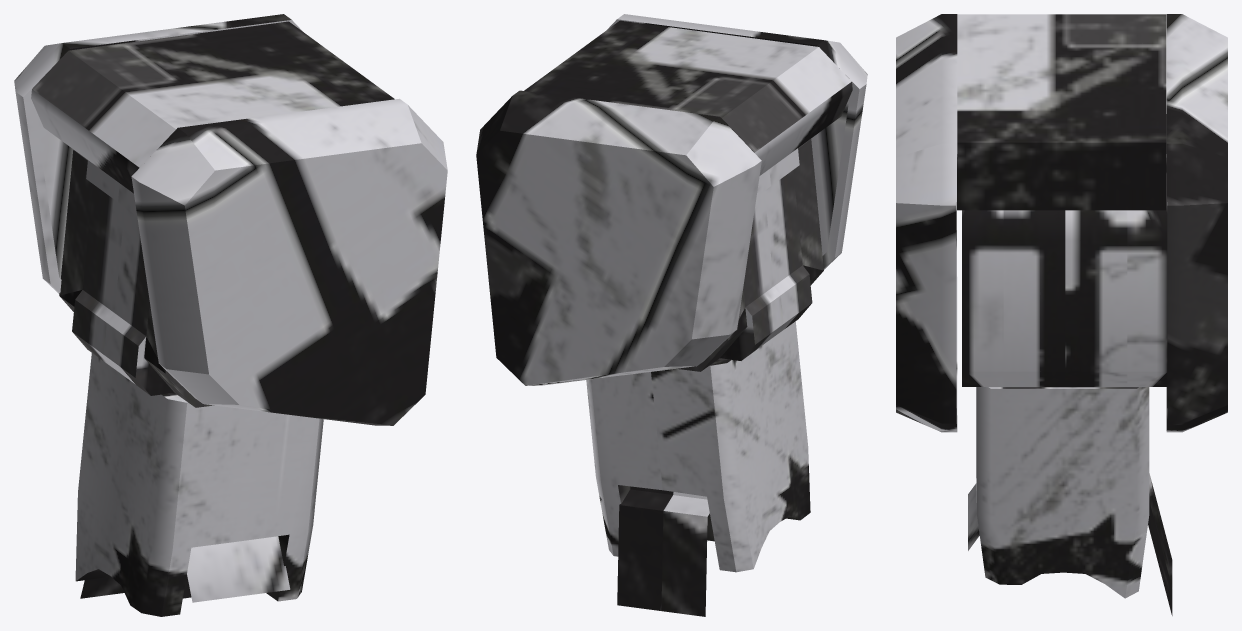
Rendered from upper.obj.
The picture shows the model from 3 angles, left to right: view 1: azimuth 30°, elevation 25°; view 2: azimuth 150°, elevation 25°; view 3: azimuth 270°, elevation 25°; orthographic projection. The views are drawn at different scales.
Visible parts, largest first — view 1: arm2:polySurface666; view 2: arm2:polySurface666; view 3: arm2:polySurface666.
Boxes of the visible parts, box(x1,y1,x2,y2) form: arm2:polySurface666: box(14, 14, 447, 616); arm2:polySurface666: box(476, 14, 867, 616); arm2:polySurface666: box(896, 14, 1227, 615).
Bounding box in the file's own units: 2.81 × 5 × 2.73.
Materials: 1 (1 with a texture image).
